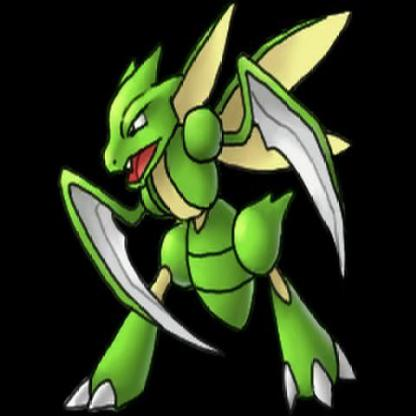Scyther: (24, 1, 416, 416)
